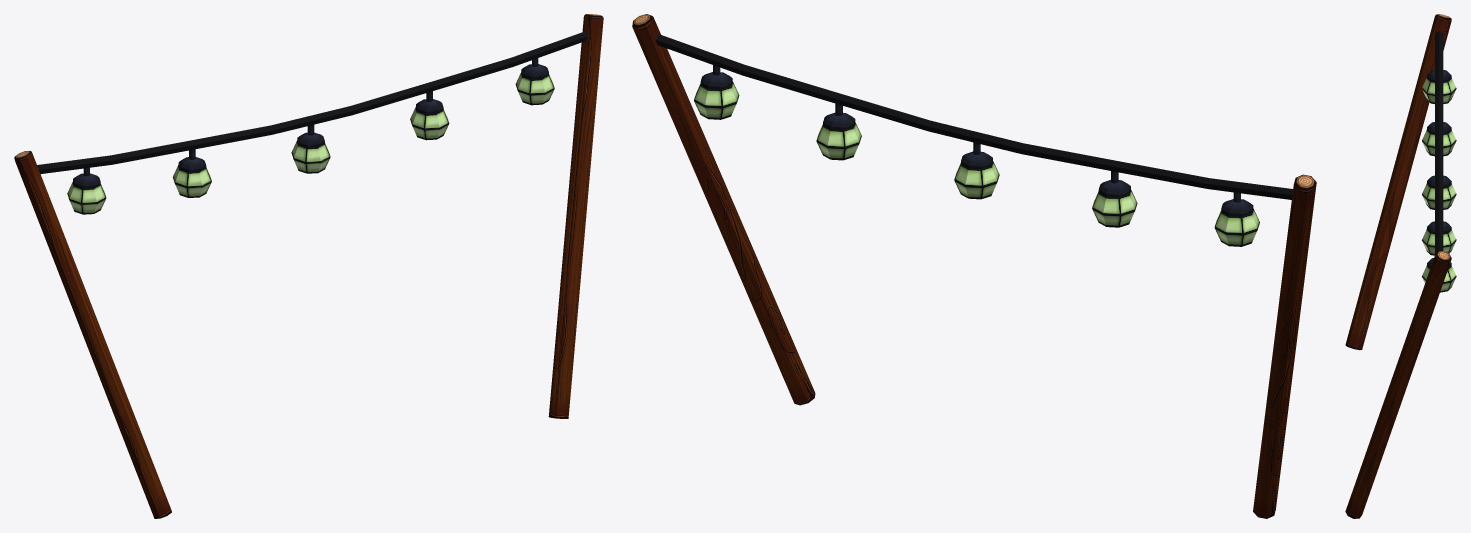
File: NNJ0610006.fbx
3 renders of one model, left to right at view 1: azimuth 30°, elevation 25°; view 2: azimuth 150°, elevation 25°; view 3: azimuth 270°, elevation 25°, orthographic. The views are drawn at different scales.
Visible parts, largest first — view 1: smNNJ0610006; view 2: smNNJ0610006; view 3: smNNJ0610006.
Boxes of the visible parts, <box> form: smNNJ0610006: <box>14,14,603,518</box>; smNNJ0610006: <box>632,14,1316,518</box>; smNNJ0610006: <box>1345,14,1456,518</box>.
Bounding box in the file's own units: 608 × 346 × 116.
1 material, 1 textured.
